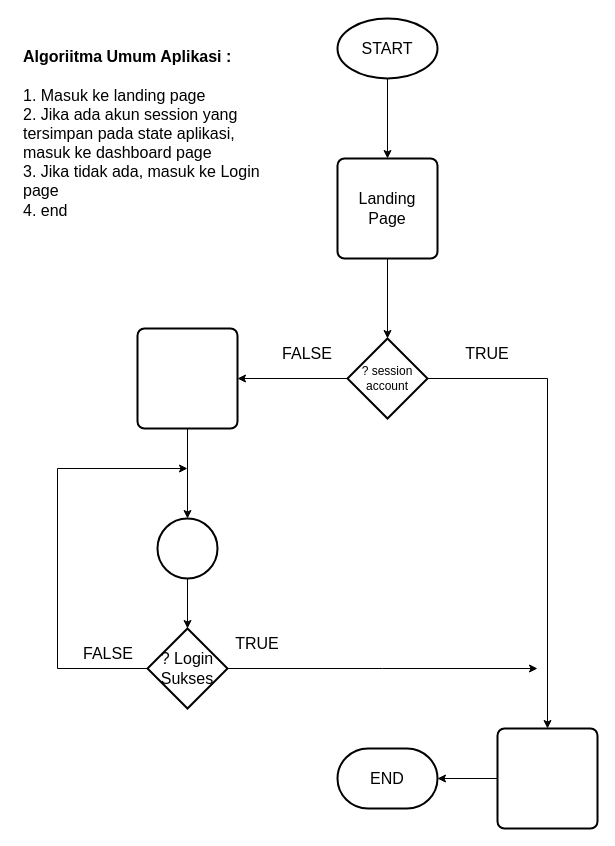
Image size: 615x846. Some labels were removed from this diagram. Each missing label, with the centre of its shape:
"Dashboard page" belongs at pixel 547 778.
"Login Page" belongs at pixel 187 378.
"login_function" belongs at pixel 187 548.
